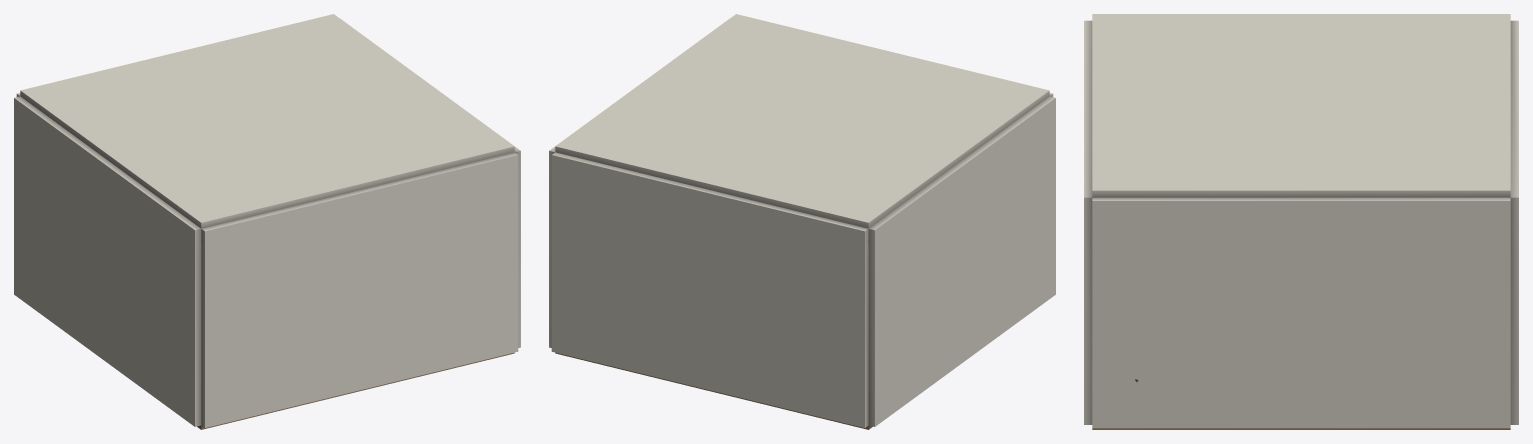
The model's file is sala-estudos-revisao.glb.
The picture shows the model from 3 angles, left to right: view 1: azimuth 30°, elevation 25°; view 2: azimuth 150°, elevation 25°; view 3: azimuth 270°, elevation 25°; orthographic projection. The views are drawn at different scales.
Parts seen in each view (by area): view 1: EscolaRevisao_Sala_Cal_Acabado.001, EscolaRevisao_Sala_Carvalho_Acabado.001; view 2: EscolaRevisao_Sala_Cal_Acabado.001, EscolaRevisao_Sala_Carvalho_Acabado.001; view 3: EscolaRevisao_Sala_Cal_Acabado.001, EscolaRevisao_Sala_Carvalho_Acabado.001.
Boxes of the visible parts, left/top/right/bottom form: EscolaRevisao_Sala_Cal_Acabado.001: left=14, top=14, right=520, bottom=427; EscolaRevisao_Sala_Carvalho_Acabado.001: left=197, top=240, right=514, bottom=429; EscolaRevisao_Sala_Cal_Acabado.001: left=549, top=14, right=1055, bottom=427; EscolaRevisao_Sala_Carvalho_Acabado.001: left=555, top=236, right=872, bottom=429; EscolaRevisao_Sala_Cal_Acabado.001: left=1084, top=14, right=1518, bottom=428; EscolaRevisao_Sala_Carvalho_Acabado.001: left=1092, top=428, right=1510, bottom=429.
Size of the model in its own units: 5.22 by 3.16 by 5.2.
13 materials, 3 textured.
